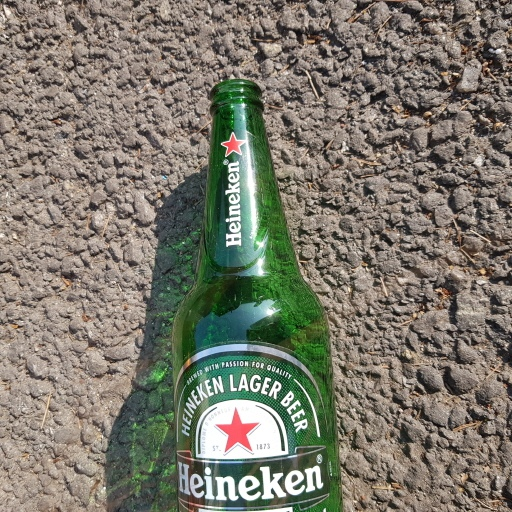Glass_1: (169, 81, 344, 512)
